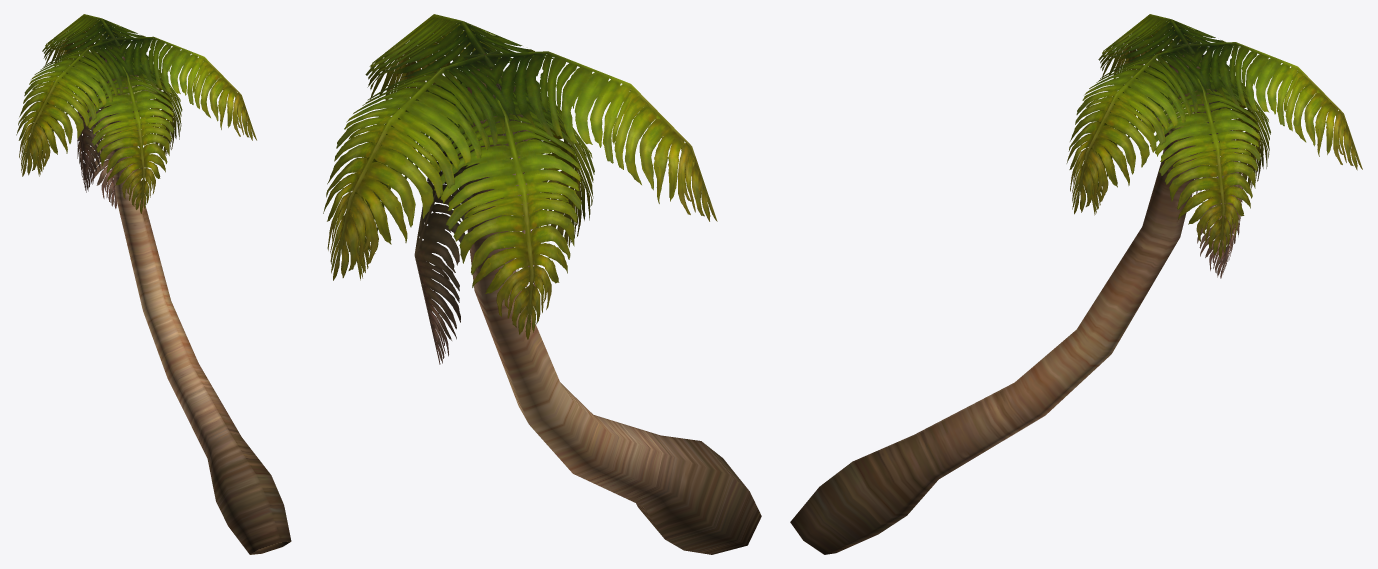
The model's file is badlandspalmtree02.obj.
3 views of the same model, side by side, from view 1: azimuth 30°, elevation 25°; view 2: azimuth 150°, elevation 25°; view 3: azimuth 270°, elevation 25° (orthographic). The views are drawn at different scales.
Parts seen in each view (by area): view 1: Geoset0, Geoset1; view 2: Geoset0, Geoset1; view 3: Geoset0, Geoset1.
Part boxes in pixels (x1,y1,x2,y2): Geoset0: (16,14,256,213); Geoset1: (100,38,291,554); Geoset0: (323,14,717,364); Geoset1: (454,53,761,554); Geoset0: (1066,14,1362,278); Geoset1: (790,43,1216,554).
Bounding box in the file's own units: 6.53 × 12.13 × 12.31.
